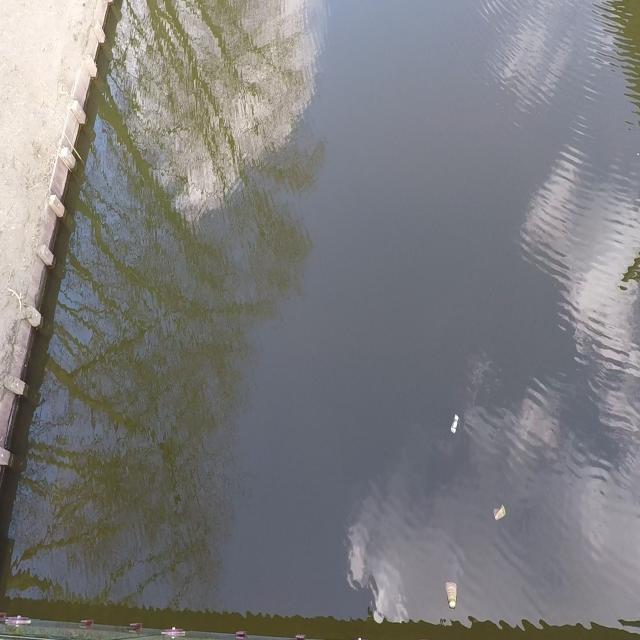Non plastique: (443, 576, 461, 616)
